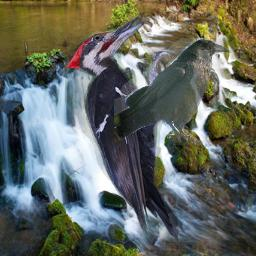Crow: (114, 38, 231, 145)
Woodpecker: (65, 13, 185, 243)
